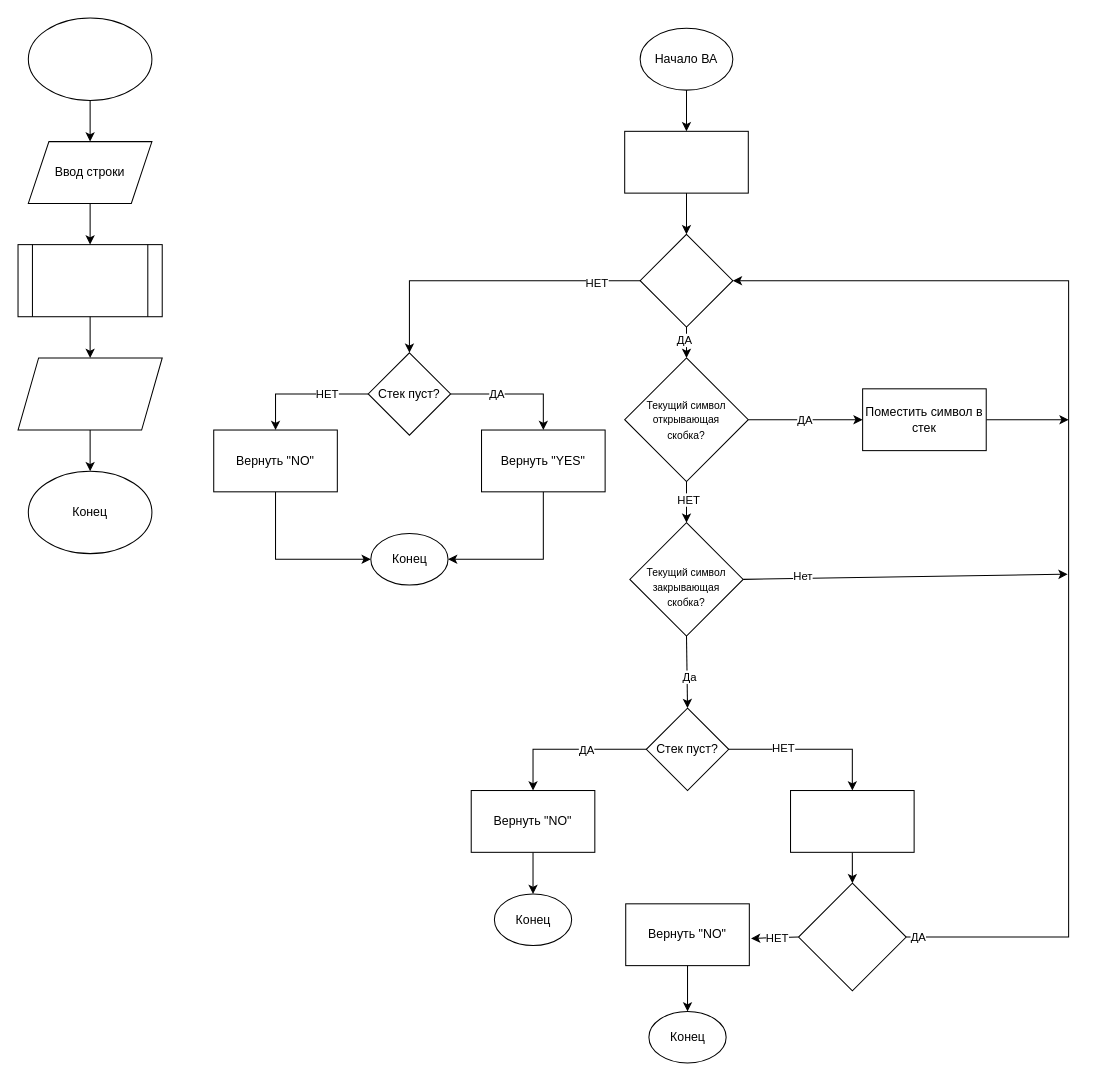
The diagram is 1095 pixels wide and 1082 high, and some of its shapes have lost their labels. Each missing label, with the centre of its shape:
Вывод результата: point (89, 393)
Вызов вспомогательного алгоритма: point (89, 280)
Есть символы в строке?: point (686, 280)
Извлечь символ из стека: point (851, 820)
Начало: point (89, 58)
Скобки соответствуют?: point (852, 936)
Создание пустого стека: point (686, 161)
